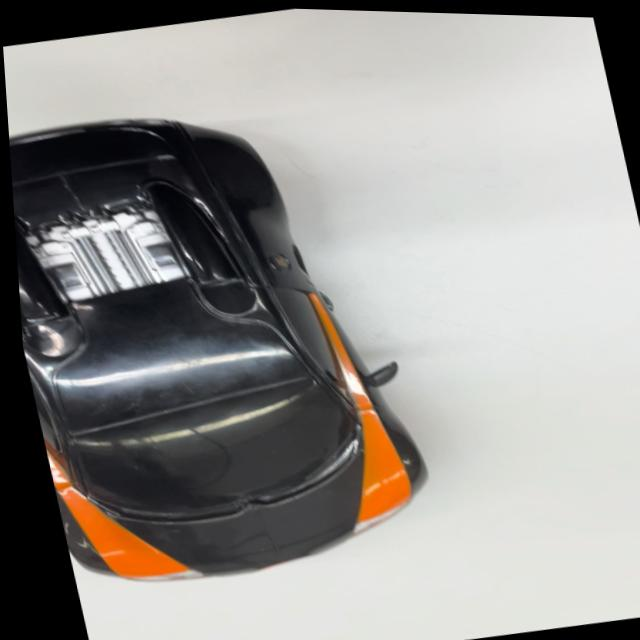vehicle_body: (5, 74, 464, 610)
